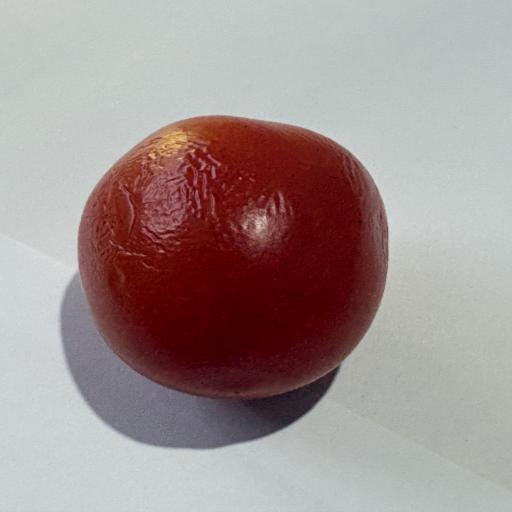spoiled: (79, 116, 388, 398)
